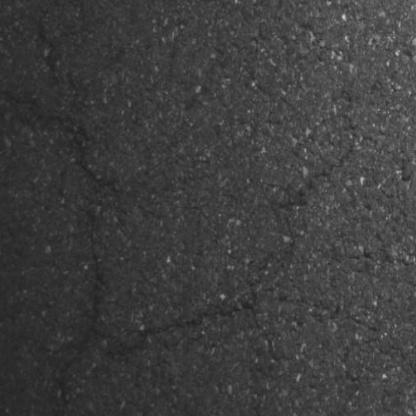Cracks: (54, 213, 114, 416), (72, 139, 125, 191), (161, 310, 206, 338)
